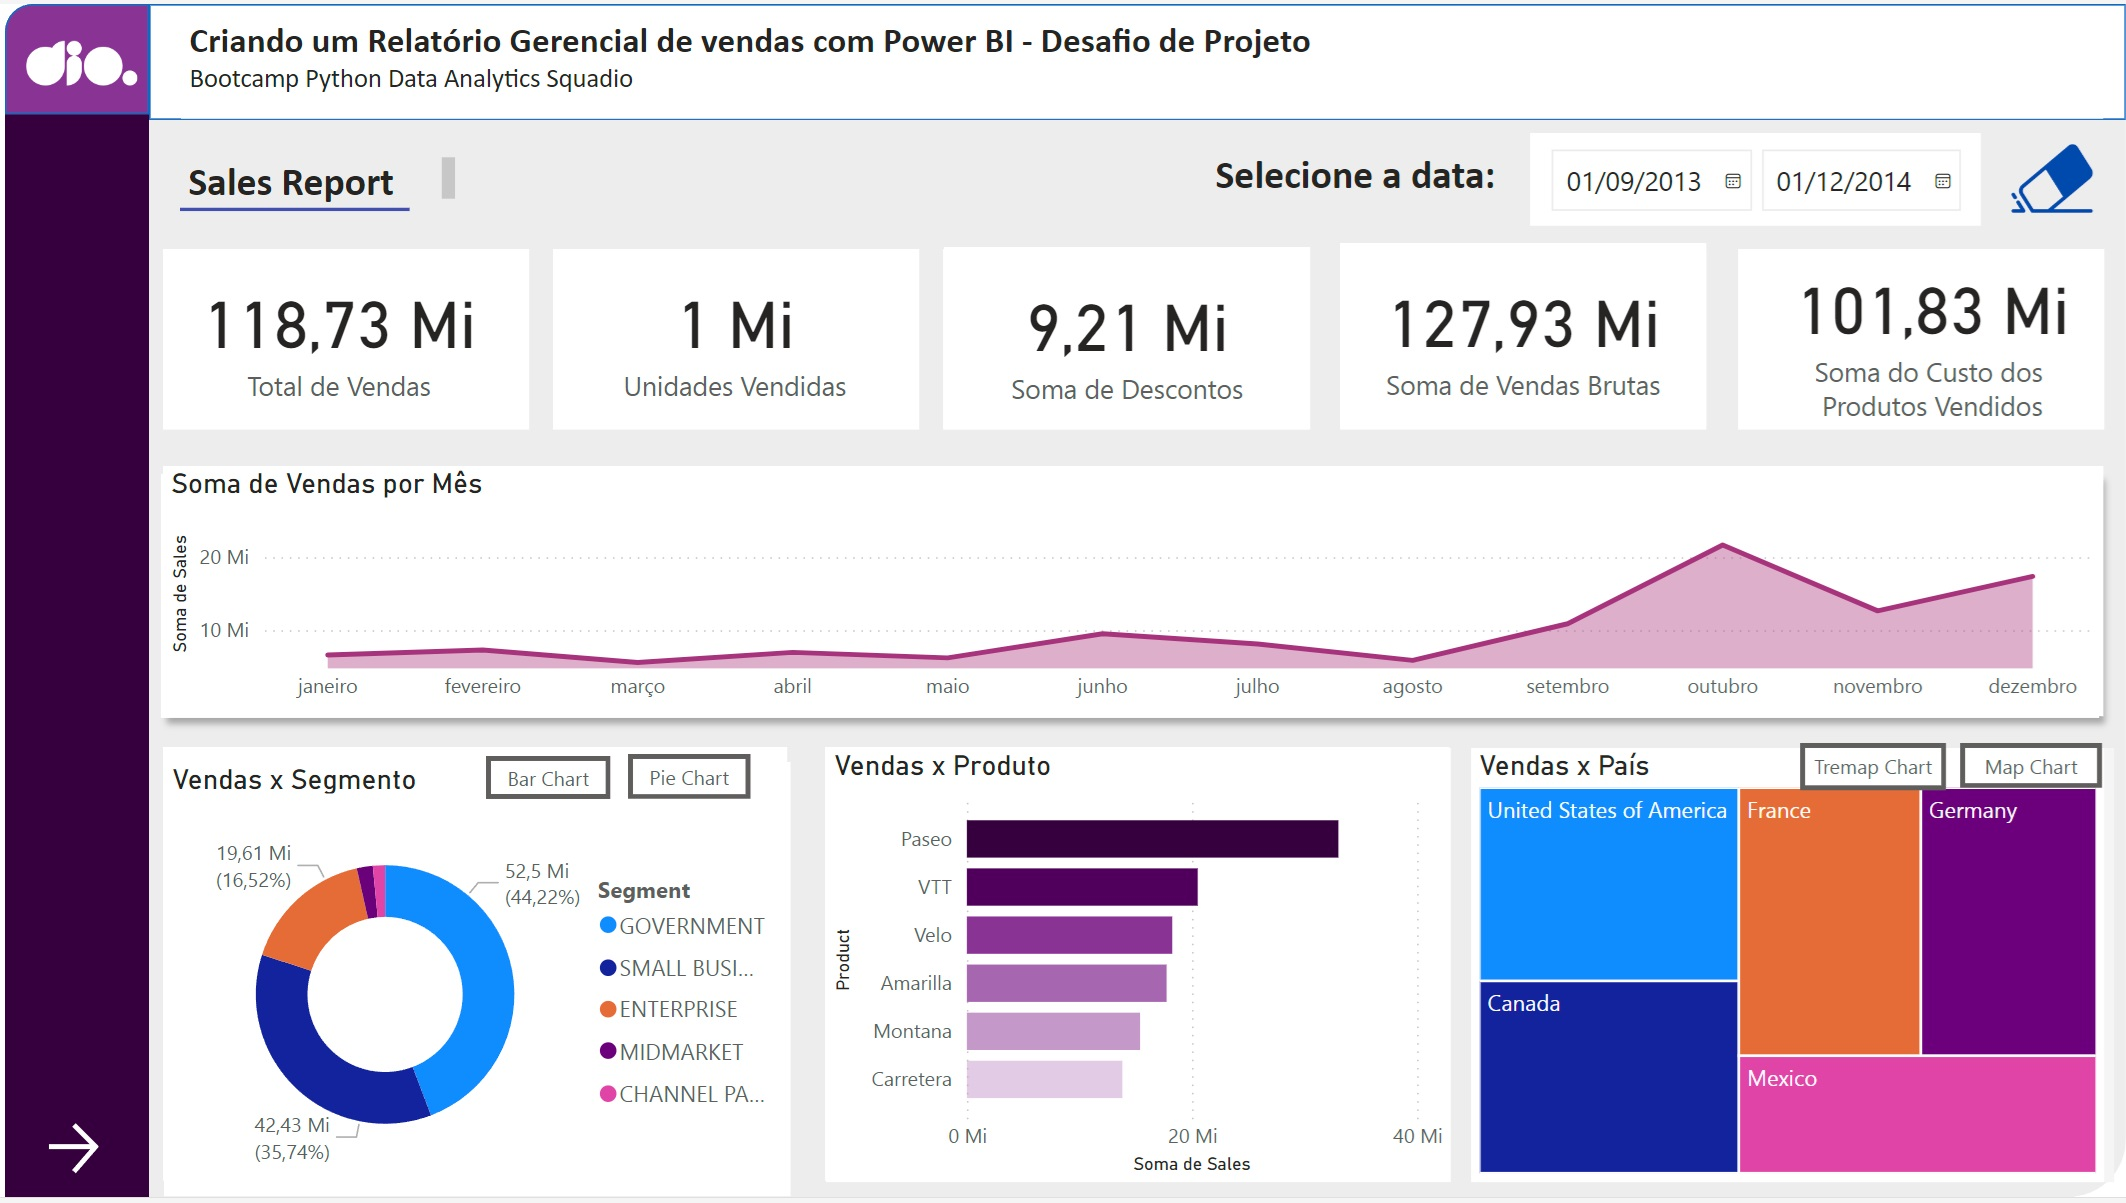

Layout of this report page (visuals, bound fields, positions):
{"tool":"powerbi","page":{"name":"Página 1","canvas":[1280,720],"ordinal":0},"visuals":[{"type":"group","id":"g1","title":"Grupo 1","box":[0,0,1280,719.6],"z":0},{"type":"shape","box":[0,0,1280,720.1],"z":0,"group":"g1"},{"type":"slicer","fields":{"Values":["financials.Date"]},"box":[920.3,77.9,272.2,55.6],"z":0,"group":"g3"},{"type":"textbox","box":[105.7,87.3,171.4,37],"z":0,"group":"g6"},{"type":"shape","box":[95.3,147.7,221.2,109.5],"z":0,"group":"g2"},{"type":"map","title":"Vendas x País - map","fields":{"Category":["financials.Country"],"Size":["Sum(financials. Sales)"]},"box":[890.5,448.8,382.5,261.6],"z":0,"group":"g4"},{"type":"clusteredBarChart","title":"Vendas x Segmento - bar","fields":{"Y":["Sum(financials. Sales)"],"Category":["financials.Segment"]},"box":[96,457.8,377.8,261.6],"z":0,"group":"g5"},{"type":"shape","box":[0,0,86.9,720.1],"z":1000,"group":"g1"},{"type":"shape","box":[105.7,56.5,138.6,134.5],"z":1000,"group":"g6"},{"type":"textbox","box":[715,83.6,199.6,45.6],"z":1000,"group":"g3"},{"type":"group","id":"g2","title":"Cartões","box":[73.9,98.8,1199.1,340.7],"z":1000},{"type":"shape","box":[330.1,147.7,221.2,109.5],"z":1000,"group":"g2"},{"type":"treemap","title":"Vendas x País","fields":{"Group":["financials.Country"],"Values":["Sum(financials. Sales)"]},"box":[884.7,448.8,382.5,261.6],"z":1000,"group":"g4"},{"type":"donutChart","title":"Vendas x Segmento","fields":{"Y":["Sum(financials. Sales)"],"Category":["financials.Segment"]},"box":[96,457.8,377.8,261.6],"z":1000,"group":"g5"},{"type":"actionButton","title":"Botão - map","box":[1180.1,446.2,85.6,27.2],"z":1250,"group":"g4"},{"type":"actionButton","title":"Botão - tremap","box":[1083.5,445.9,88.2,28.5],"z":1500,"group":"g4"},{"type":"actionButton","title":"Botão - bar","box":[290.5,453.9,75.2,25.9],"z":1500,"group":"g5"},{"type":"shape","box":[0,0,86.9,66.6],"z":2000,"group":"g1"},{"type":"actionButton","box":[1206.8,82.2,59.9,51.3],"z":2000,"group":"g3"},{"type":"shape","box":[566,147.7,221.2,109.5],"z":2000,"group":"g2"},{"type":"shape","box":[95.5,448.6,376.7,261.7],"z":2000},{"type":"actionButton","title":"Botão -pie","box":[376.2,452.9,73.9,27.2],"z":2000,"group":"g5"},{"type":"image","title":"logo_dio","box":[8,4.5,76.8,62.1],"z":3000,"group":"g1"},{"type":"image","title":"clean","box":[1205.6,75.1,59.3,61.6],"z":3000,"group":"g3"},{"type":"shape","box":[805.3,147.7,221.2,109.5],"z":3000,"group":"g2"},{"type":"shape","box":[494.8,448.6,376.7,261.7],"z":3000},{"type":"shape","box":[86.9,0,1193.1,70],"z":4000,"group":"g1"},{"type":"shape","box":[84.9,274.2,1187.6,165.3],"z":4000,"group":"g2"},{"type":"areaChart","title":"Soma de Vendas por Mês","fields":{"Category":["financials.Date.Variation.Hierarquia de datas.Mês"],"Y":["Sum(financials. Sales)"]},"box":[95.3,279,1170.7,151.1],"z":4000},{"type":"textbox","box":[106.1,4.5,1160.4,65.5],"z":5000,"group":"g1"},{"type":"shape","box":[1045.7,147.7,221.2,109.5],"z":5000,"group":"g2"},{"type":"clusteredBarChart","title":"Vendas x Produto","fields":{"Y":["Sum(financials. Sales)"],"Category":["financials.Product"]},"box":[495.3,448.8,376.7,261.6],"z":5000},{"type":"group","id":"g3","title":"Filtro por data","box":[715,75.1,551.6,61.6],"z":6000},{"type":"card","fields":{"Values":["Sum(financials. Sales)"]},"box":[73.9,142.9,254.6,113.9],"z":6000,"group":"g2"},{"type":"card","fields":{"Values":["Sum(financials.COGS)"]},"box":[1052.1,98.8,220.9,184.9],"z":7000,"group":"g2"},{"type":"group","id":"g4","title":"Vendas por país","box":[884.7,445.9,388.3,264.5],"z":7000},{"type":"card","fields":{"Values":["Sum(financials.Discounts)"]},"box":[566.1,146.5,220.9,110.4],"z":8000,"group":"g2"},{"type":"group","id":"g5","title":"Vendas x Segmento","box":[96,452.9,377.8,266.5],"z":8000},{"type":"group","id":"g6","title":"Título","box":[105.7,56.5,171.4,134.5],"z":9000},{"type":"card","fields":{"Values":["Sum(financials.Gross Sales)"]},"box":[805.6,144.1,220.9,110.4],"z":9000,"group":"g2"},{"type":"card","fields":{"Values":["Sum(financials.Units Sold)"]},"box":[329,143,222.1,113.9],"z":10000,"group":"g2"},{"type":"actionButton","box":[20.7,670.5,46.7,40.2],"z":10000}]}

Visuals, with their boxes on the page's 1280x720 design canvas (x1, y1, x2, y2). These are canvas units, not pixel positions in the 2126x1203 screenshot, which may show the page scaled, cropped or inside an application window:
"Grupo 1" group: x1=0, y1=0, x2=1280, y2=720
shape: x1=0, y1=0, x2=1280, y2=720
slicer - financials.Date: x1=920, y1=78, x2=1192, y2=134
textbox: x1=106, y1=87, x2=277, y2=124
shape: x1=95, y1=148, x2=316, y2=257
"Vendas x País - map" map: x1=890, y1=449, x2=1273, y2=710
"Vendas x Segmento - bar" clusteredBarChart: x1=96, y1=458, x2=474, y2=719
shape: x1=0, y1=0, x2=87, y2=720
shape: x1=106, y1=56, x2=244, y2=191
textbox: x1=715, y1=84, x2=915, y2=129
"Cartões" group: x1=74, y1=99, x2=1273, y2=440
shape: x1=330, y1=148, x2=551, y2=257
"Vendas x País" treemap: x1=885, y1=449, x2=1267, y2=710
"Vendas x Segmento" donutChart: x1=96, y1=458, x2=474, y2=719
"Botão - map" actionButton: x1=1180, y1=446, x2=1266, y2=473
"Botão - tremap" actionButton: x1=1084, y1=446, x2=1172, y2=474
"Botão - bar" actionButton: x1=290, y1=454, x2=366, y2=480
shape: x1=0, y1=0, x2=87, y2=67
actionButton: x1=1207, y1=82, x2=1267, y2=134
shape: x1=566, y1=148, x2=787, y2=257
shape: x1=96, y1=449, x2=472, y2=710
"Botão -pie" actionButton: x1=376, y1=453, x2=450, y2=480
"logo_dio" image: x1=8, y1=4, x2=85, y2=67
"clean" image: x1=1206, y1=75, x2=1265, y2=137
shape: x1=805, y1=148, x2=1026, y2=257
shape: x1=495, y1=449, x2=872, y2=710
shape: x1=87, y1=0, x2=1280, y2=70
shape: x1=85, y1=274, x2=1272, y2=440
"Soma de Vendas por Mês" areaChart: x1=95, y1=279, x2=1266, y2=430
textbox: x1=106, y1=4, x2=1266, y2=70
shape: x1=1046, y1=148, x2=1267, y2=257
"Vendas x Produto" clusteredBarChart: x1=495, y1=449, x2=872, y2=710
"Filtro por data" group: x1=715, y1=75, x2=1267, y2=137
card - Sum(financials. Sales): x1=74, y1=143, x2=328, y2=257
card - Sum(financials.COGS): x1=1052, y1=99, x2=1273, y2=284
"Vendas por país" group: x1=885, y1=446, x2=1273, y2=710
card - Sum(financials.Discounts): x1=566, y1=146, x2=787, y2=257
"Vendas x Segmento" group: x1=96, y1=453, x2=474, y2=719
"Título" group: x1=106, y1=56, x2=277, y2=191
card - Sum(financials.Gross Sales): x1=806, y1=144, x2=1026, y2=254
card - Sum(financials.Units Sold): x1=329, y1=143, x2=551, y2=257
actionButton: x1=21, y1=670, x2=67, y2=711
